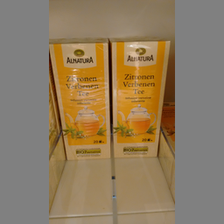tea: (109, 36, 170, 159), (50, 37, 110, 160)
